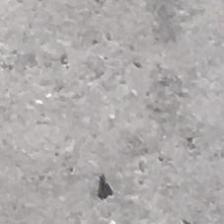Non_Crack: (10, 18, 186, 166)
